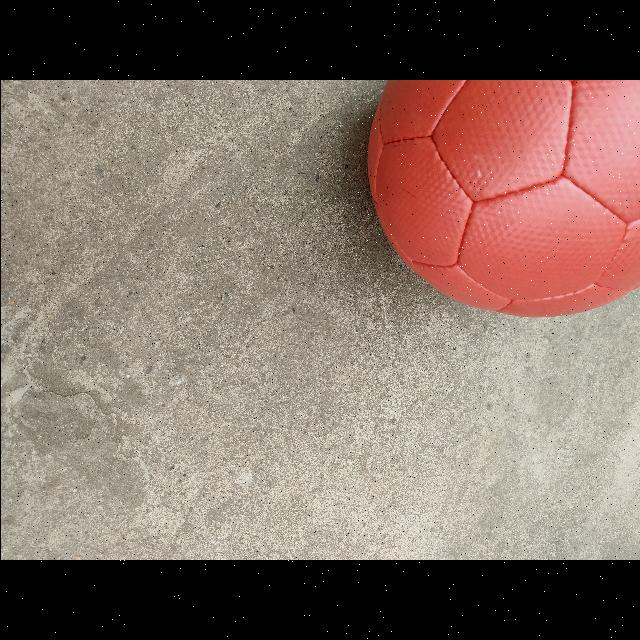R: (366, 80, 640, 318)
